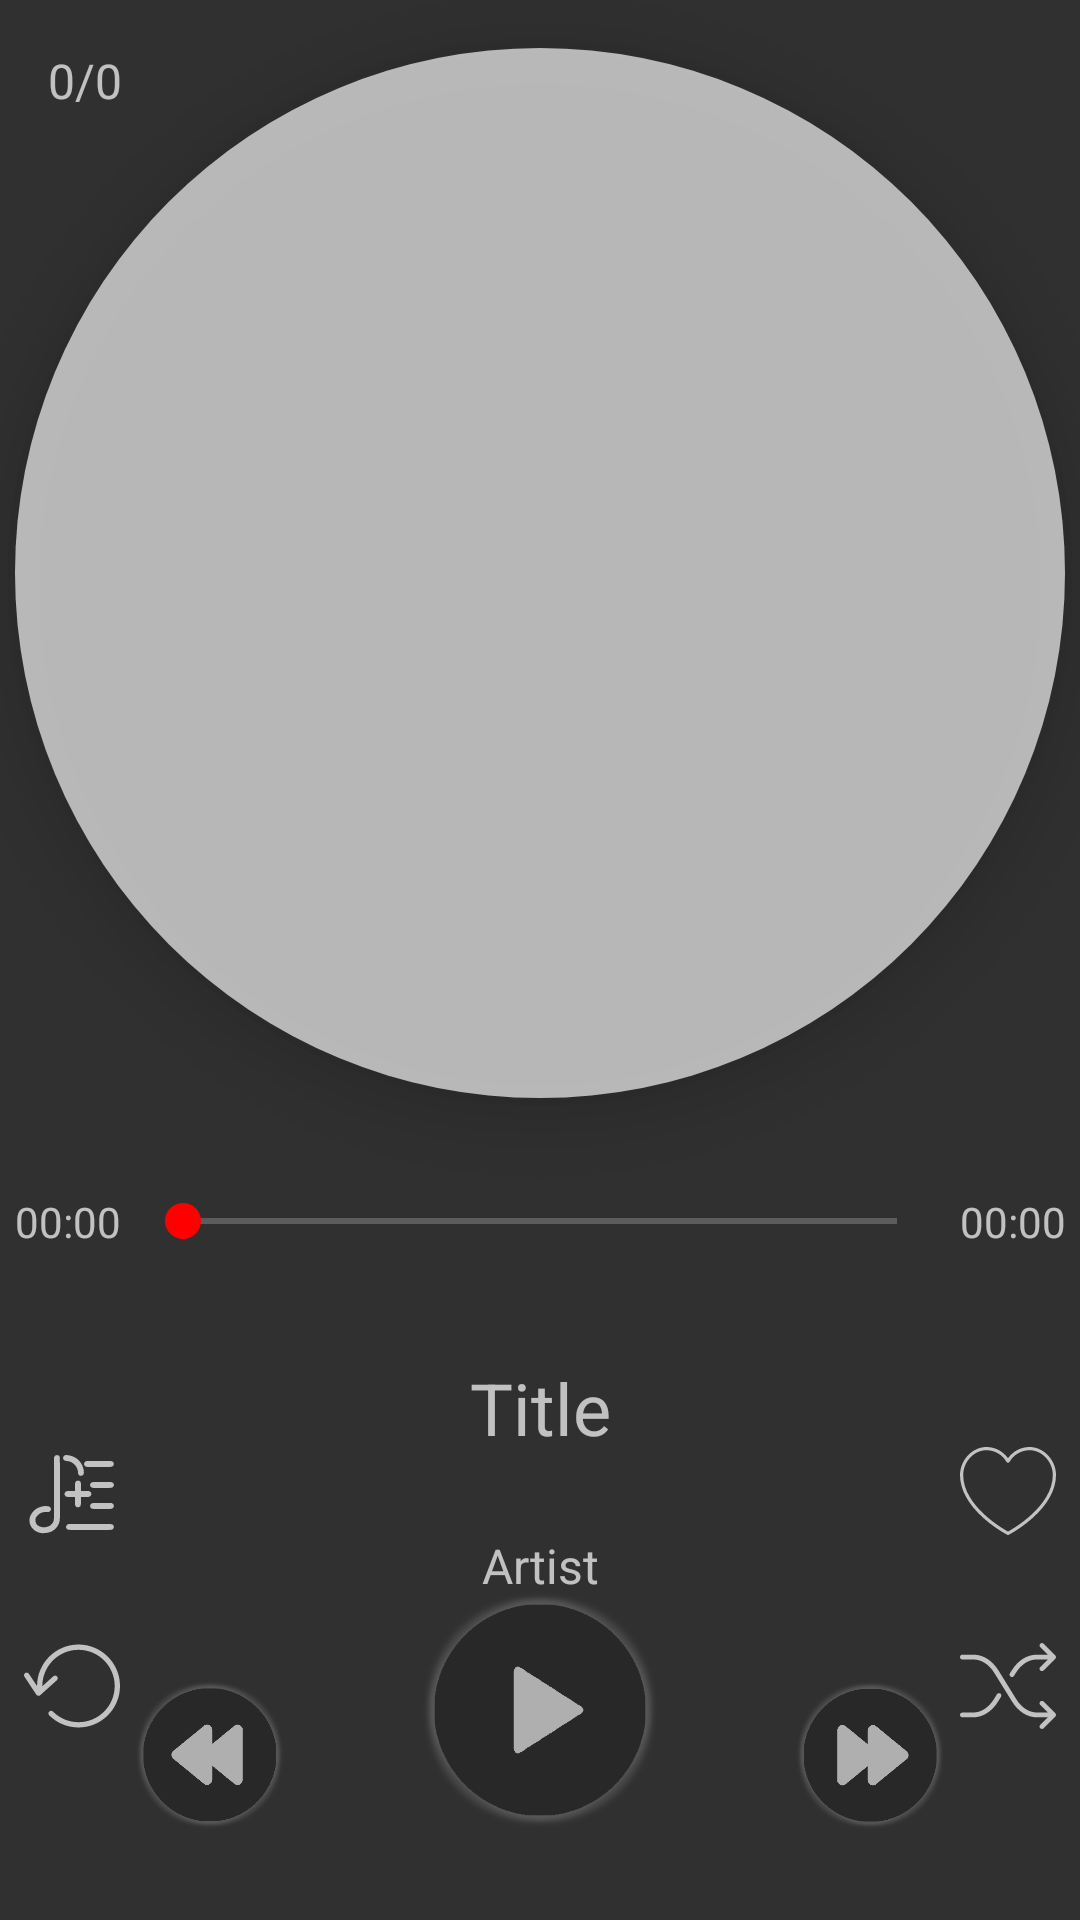

Named icons in this screenshot (1080x1920) and their bounding boxes, (x1, y1, x2, y2):
add to playlist: (29, 1455, 114, 1534)
favorite false: (960, 1447, 1056, 1535)
next: (799, 1684, 942, 1827)
play: (430, 1600, 650, 1820)
previous: (138, 1683, 281, 1826)
repeat: (24, 1644, 120, 1728)
shuffle: (960, 1643, 1056, 1729)
